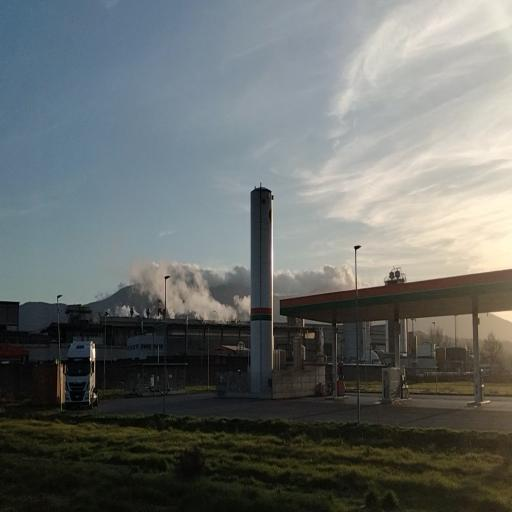leakage: (124, 252, 253, 330), (105, 296, 150, 323)
